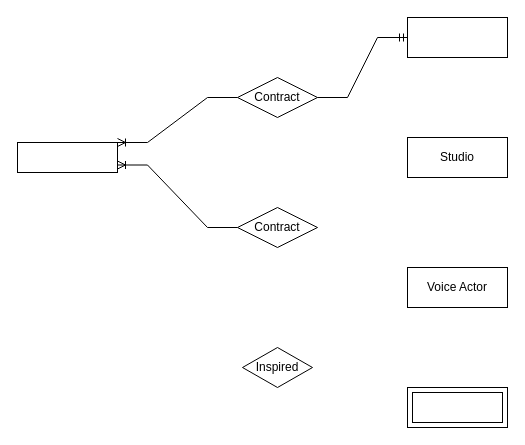
The diagram is 525 pixels wide and 445 high, and some of its shapes have lost their labels. The box of each missing label's shape, as (x1, y1, x2, y2) in pixels:
Anime: (16, 142, 118, 172)
Author: (406, 16, 508, 58)
Merchandise: (406, 386, 508, 428)
